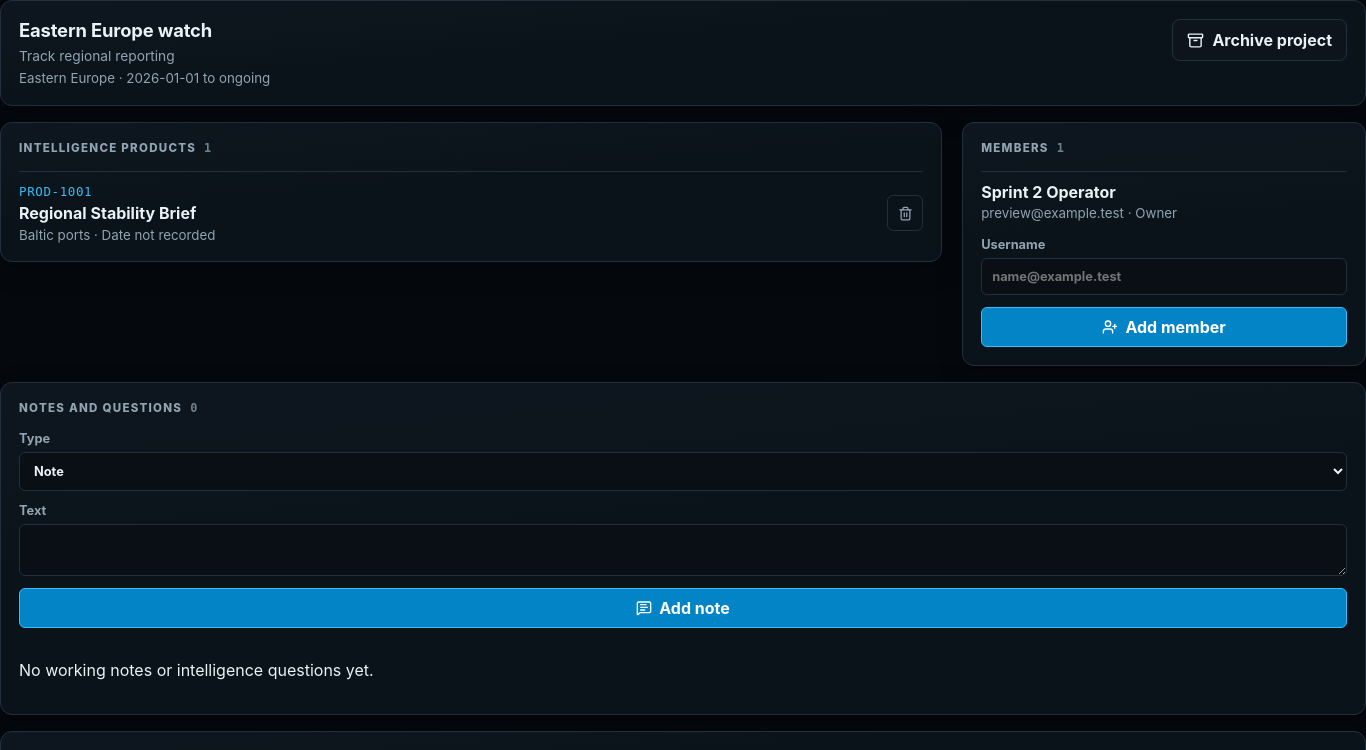
Scenario: surfaces a bounded project mutation failure
Click the button "Archive project" at (1260, 40), box left=1172, top=19, right=1347, bottom=61
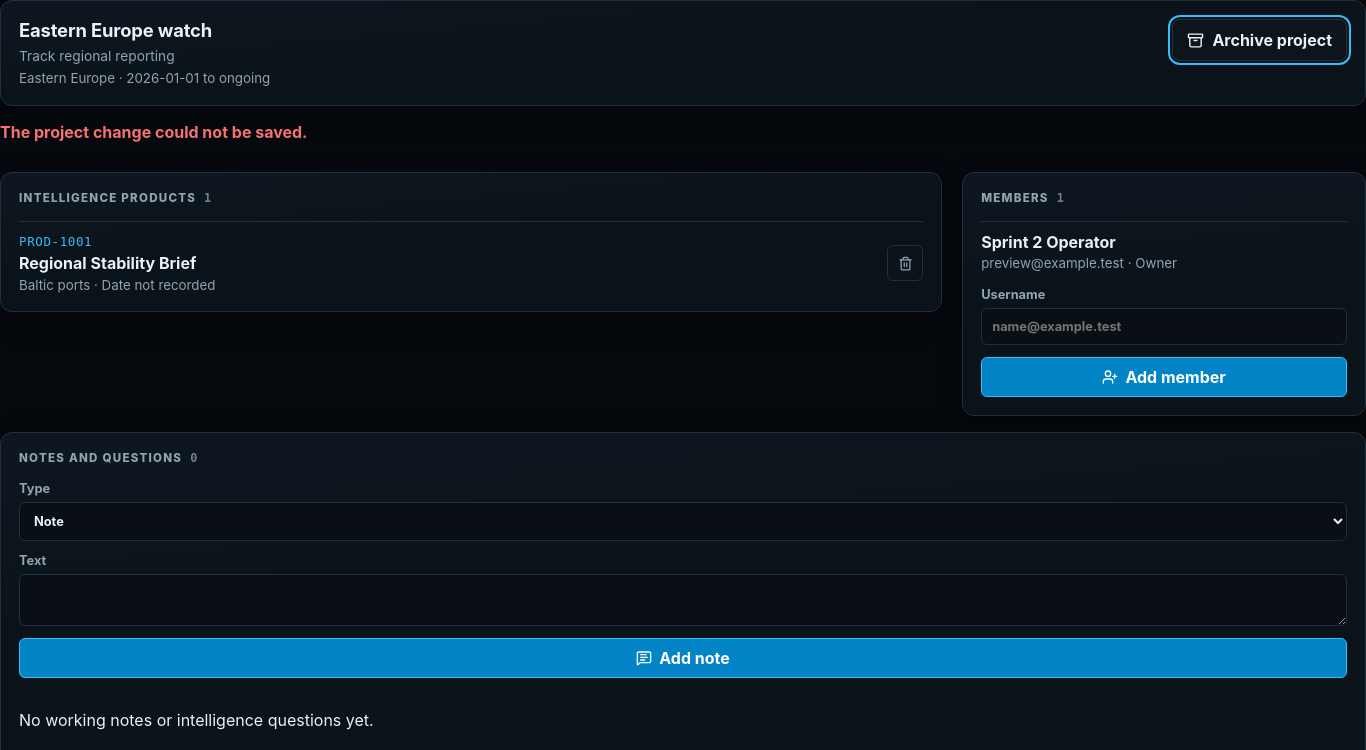
Expected: the message reads "The project change could not be saved.", left=0, top=122, right=307, bottom=142
